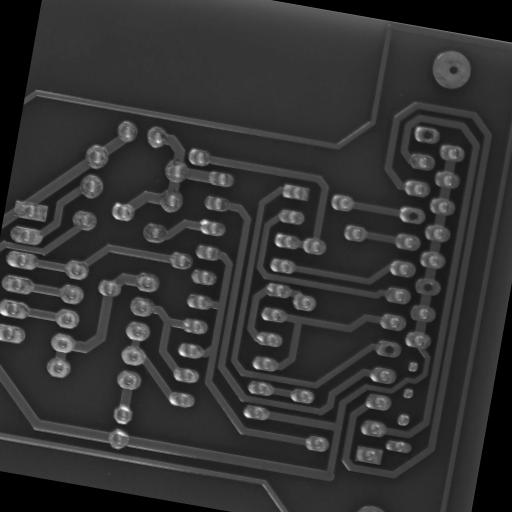missing_hole: (378, 340, 402, 358), (418, 276, 440, 295), (444, 58, 462, 78), (402, 205, 422, 222), (416, 126, 436, 143)
